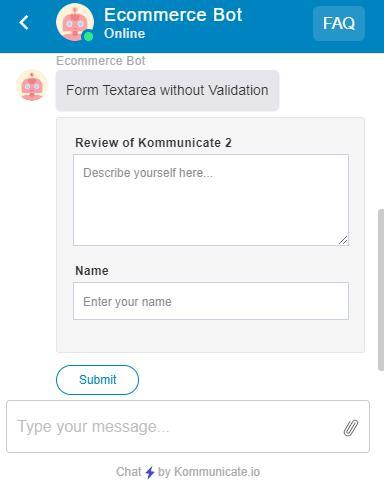button: (56, 365, 140, 396), (315, 6, 366, 39)
icon: (14, 13, 38, 35)
input: (9, 401, 371, 453), (76, 281, 350, 322)
label: (72, 133, 236, 153), (73, 263, 113, 282)
